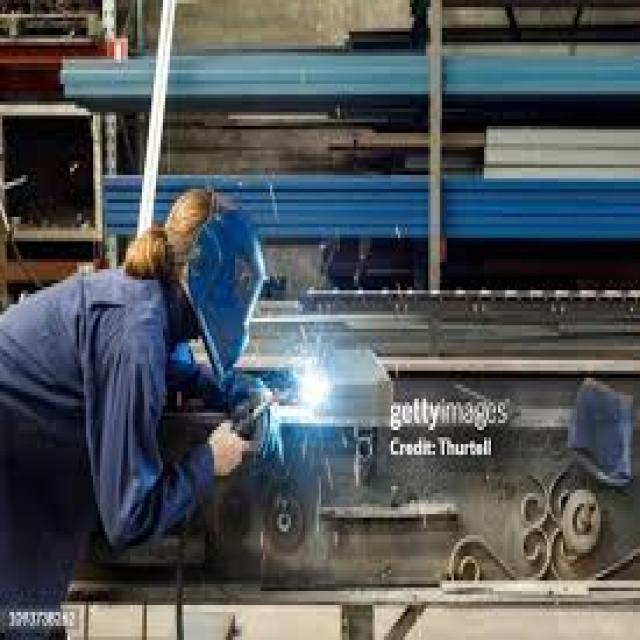welding: (296, 364, 334, 412)
